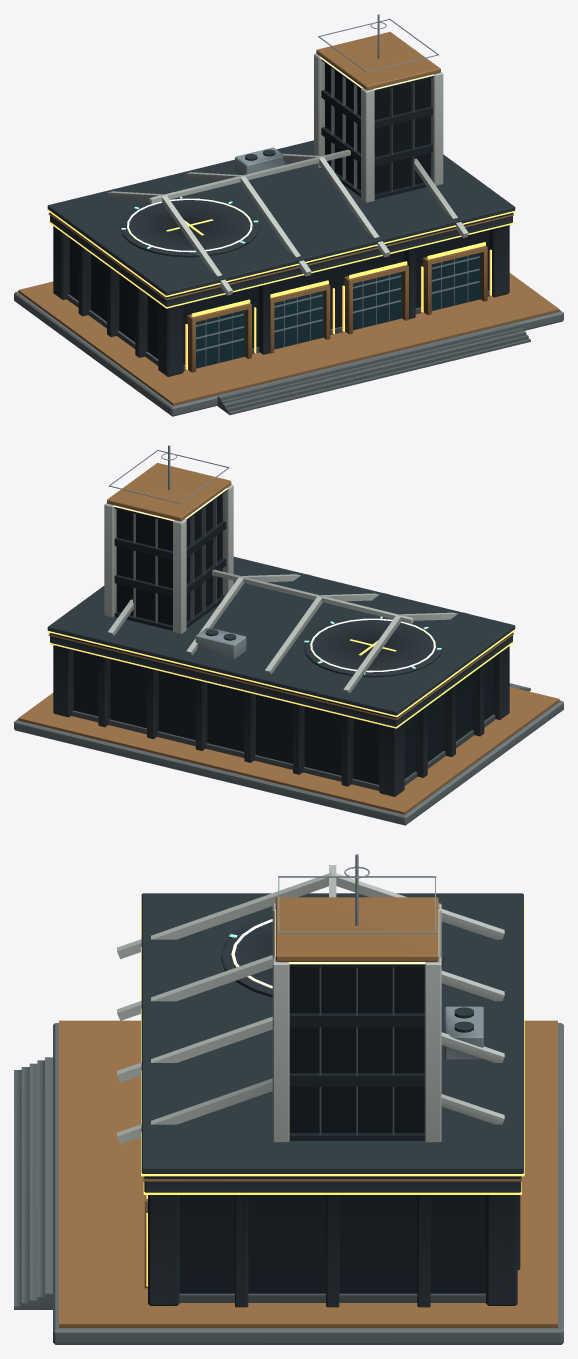
File: mission-terminal.lod1.glb
The picture shows the model from 3 angles, top to bottom: view 1: azimuth 30°, elevation 25°; view 2: azimuth 150°, elevation 25°; view 3: azimuth 270°, elevation 25°; orthographic projection. The views are drawn at different scales.
Parts seen in each view (by area): view 1: structure, lobby; view 2: structure, lobby; view 3: structure, lobby.
Part boxes in pixels (left/top/right/bottom): structure: left=14, top=14, right=563, bottom=416; lobby: left=69, top=230, right=489, bottom=368; structure: left=14, top=445, right=563, bottom=825; lobby: left=73, top=650, right=493, bottom=784; structure: left=14, top=854, right=563, bottom=1344; lobby: left=179, top=1195, right=485, bottom=1293.
Bounding box in the file's own units: 30 × 19 × 22.6.
